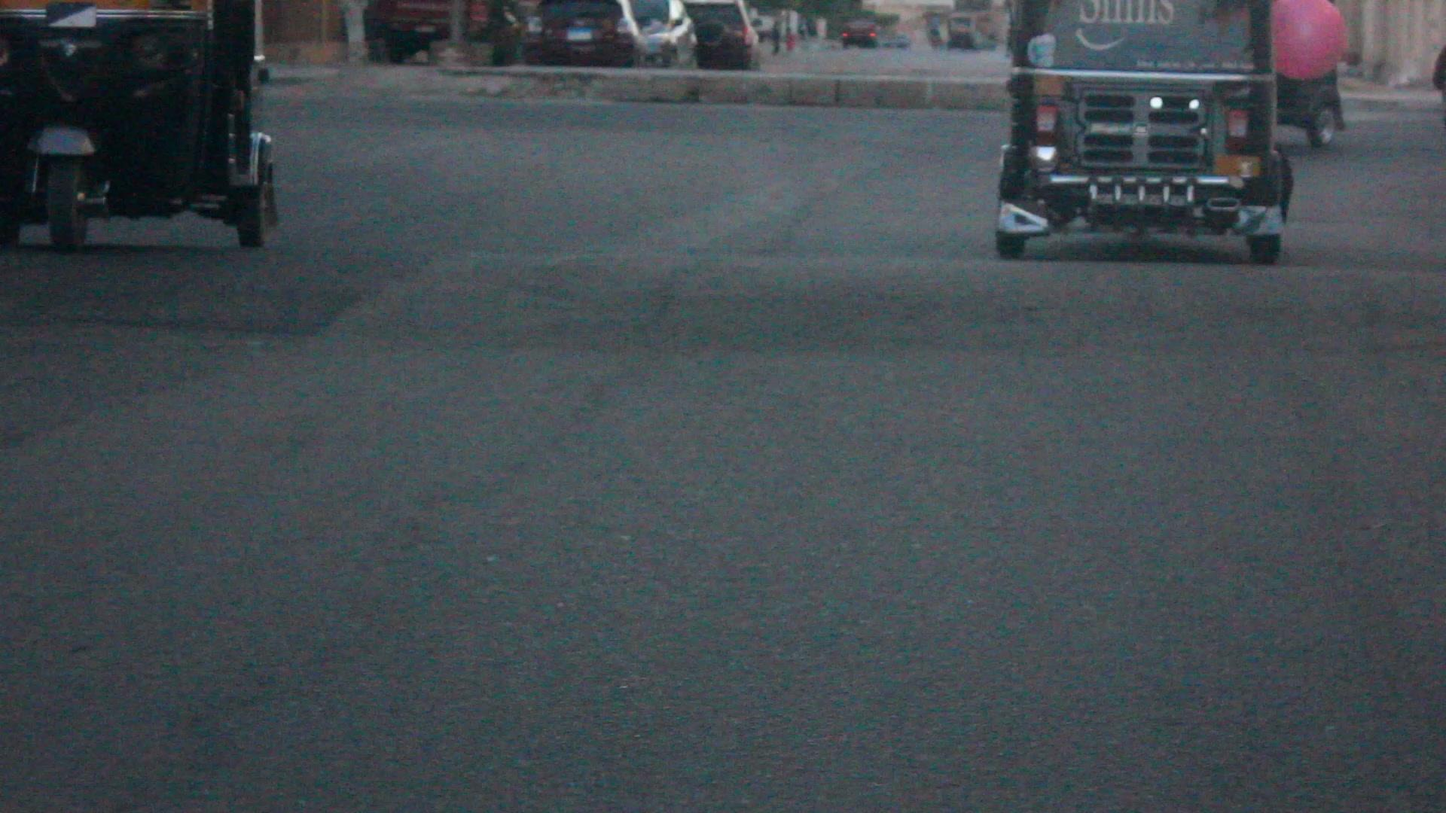Bump: (13, 250, 1446, 350)
